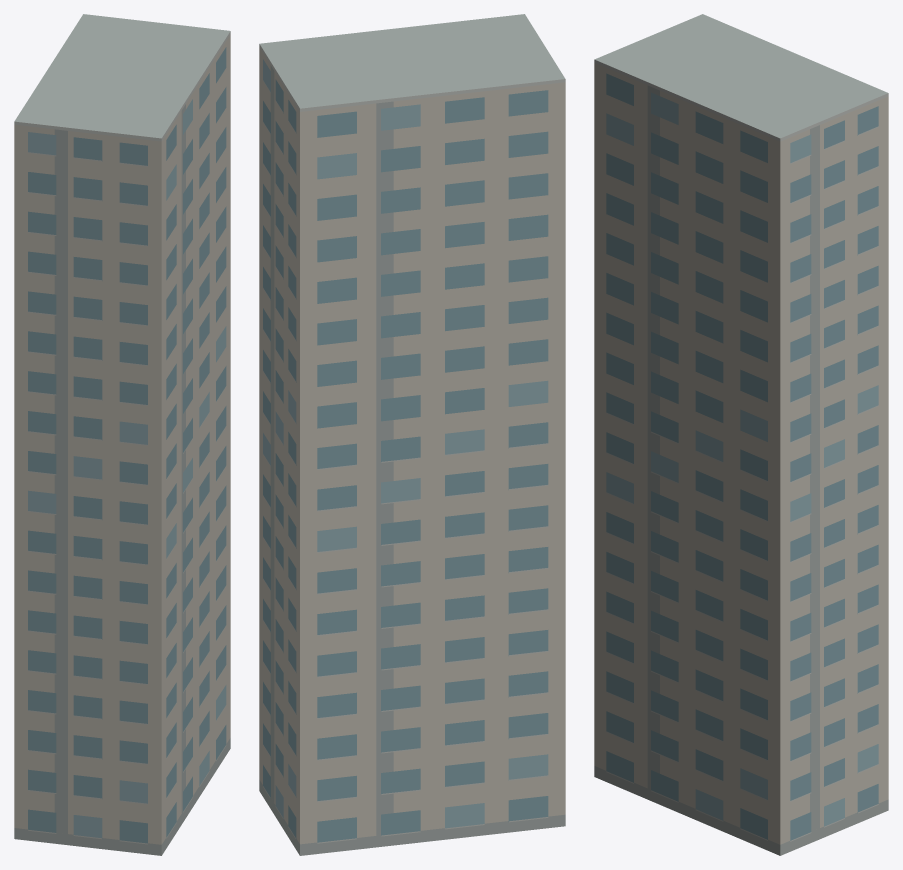
Rendered from residential-296e7dec-4240-4d23-855c-934d92a03c6e.glb.
The picture shows the model from 3 angles, left to right: view 1: azimuth 30°, elevation 25°; view 2: azimuth 150°, elevation 25°; view 3: azimuth 270°, elevation 25°; orthographic projection. The views are drawn at different scales.
Visible parts, largest first — view 1: residential-296e7dec-4240-4d23-855c-934d92a03c6e.tmp; view 2: residential-296e7dec-4240-4d23-855c-934d92a03c6e.tmp; view 3: residential-296e7dec-4240-4d23-855c-934d92a03c6e.tmp.
Part boxes in pixels (<box>): residential-296e7dec-4240-4d23-855c-934d92a03c6e.tmp: <box>14,14,230,855</box>; residential-296e7dec-4240-4d23-855c-934d92a03c6e.tmp: <box>259,14,565,855</box>; residential-296e7dec-4240-4d23-855c-934d92a03c6e.tmp: <box>594,14,888,855</box>.
Bounding box in the file's own units: 20.48 × 55 × 20.45.
